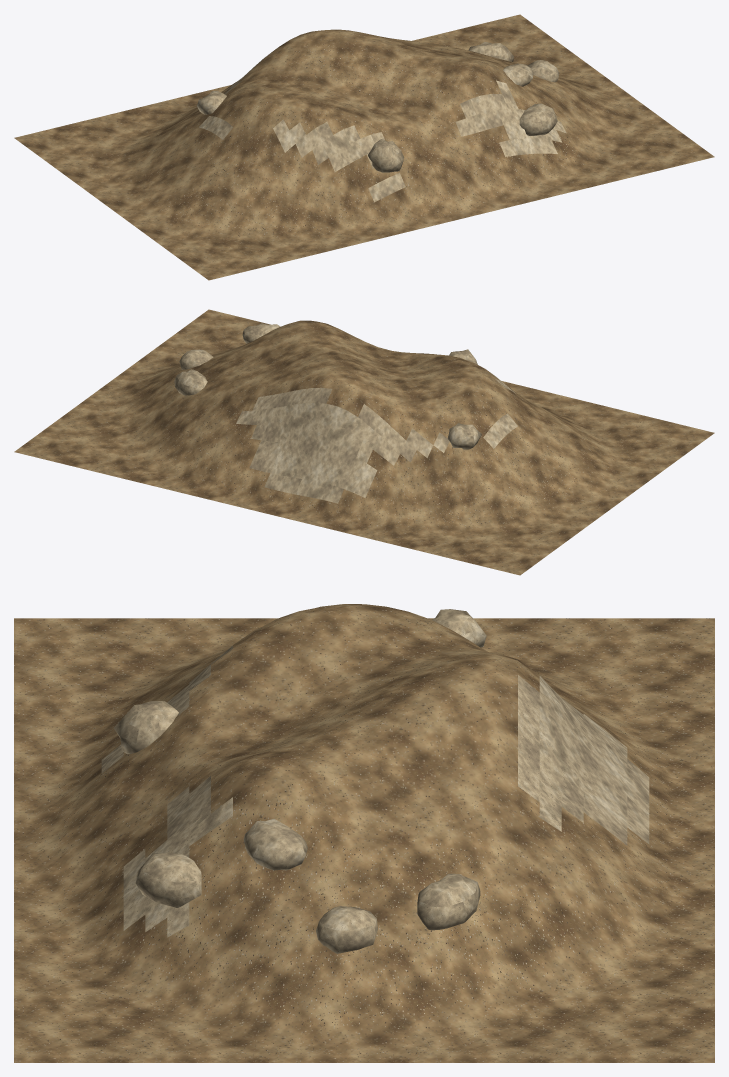
Rendered from colle_acropoli_modulare.gltf.
The picture shows the model from 3 angles, top to bottom: view 1: azimuth 30°, elevation 25°; view 2: azimuth 150°, elevation 25°; view 3: azimuth 270°, elevation 25°; orthographic projection. The views are drawn at different scales.
Visible parts, largest first — view 1: colle_acropoli_modulare; view 2: colle_acropoli_modulare; view 3: colle_acropoli_modulare.
Boxes of the visible parts, <box> form: colle_acropoli_modulare: <box>14,14,714,280</box>; colle_acropoli_modulare: <box>14,309,714,575</box>; colle_acropoli_modulare: <box>14,604,714,1062</box>.
Size of the model in its own units: 30 by 5.21 by 20.
Materials: 2 (2 with a texture image).
